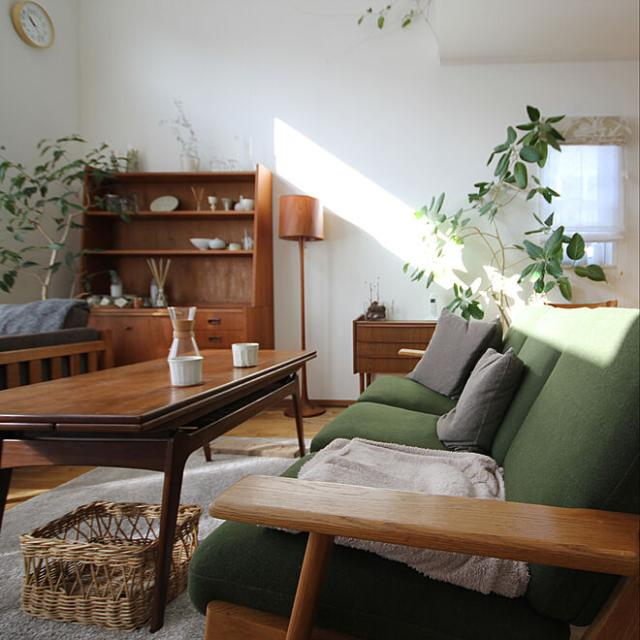vintage desk: (2, 347, 316, 459)
vintage shelf: (81, 150, 274, 347)
vintage sofa: (184, 295, 638, 640)
